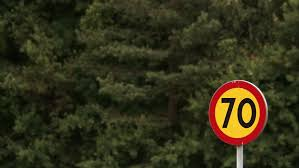Speed_limit_70km: (209, 80, 269, 144)
